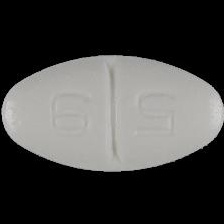68151-2948: (0, 0, 224, 224)
